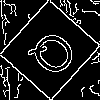Q: (25, 25, 87, 87)
